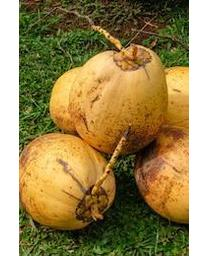coconut: (71, 44, 167, 153), (21, 132, 118, 231), (133, 124, 191, 224)
